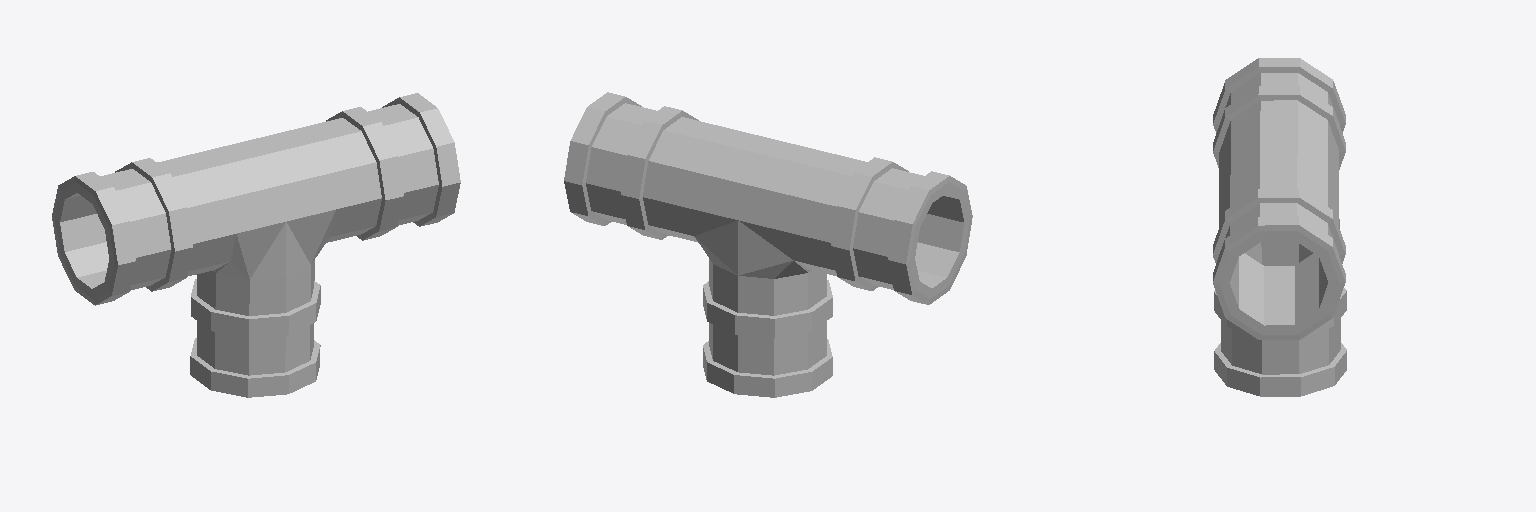
Rendered from Pipe_T.obj.
3 renders of one model, left to right at view 1: azimuth 30°, elevation 25°; view 2: azimuth 150°, elevation 25°; view 3: azimuth 270°, elevation 25°, orthographic.
Visible parts, largest first — view 1: PIP_Group779; view 2: PIP_Group779; view 3: PIP_Group779.
Boxes of the visible parts, box(x1,y1,x2,y2) form: PIP_Group779: box(52, 93, 460, 397); PIP_Group779: box(564, 92, 972, 397); PIP_Group779: box(1213, 58, 1346, 396).
Bounding box in the file's own units: 1.42 × 0.9088 × 0.4845.